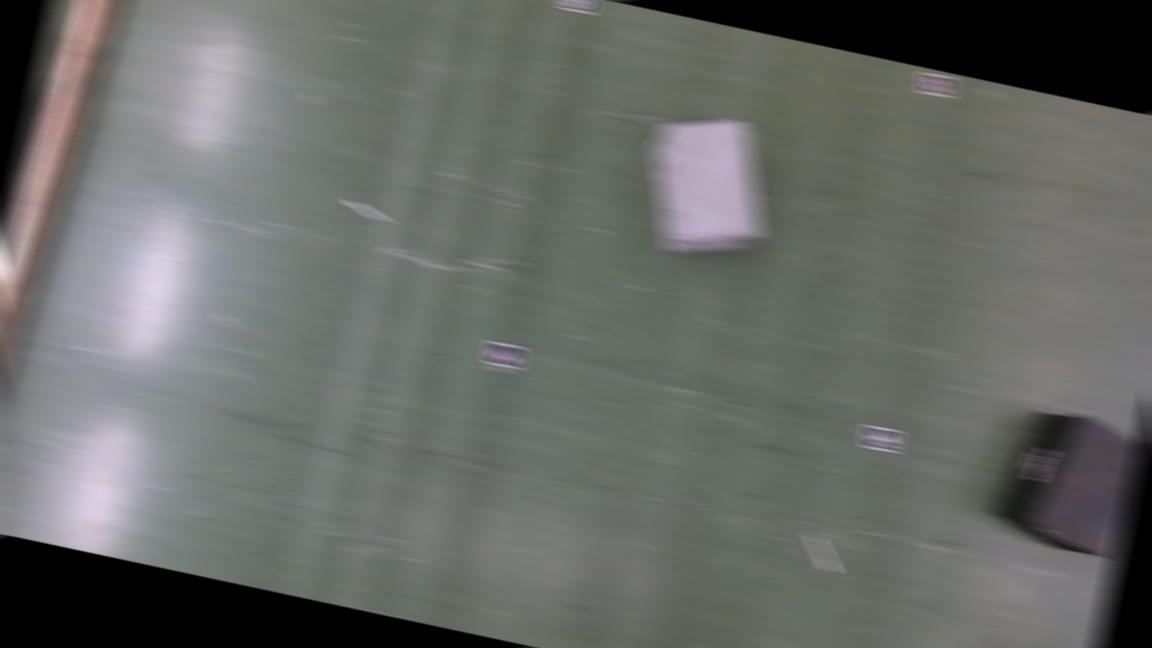probes: (800, 531, 844, 572), (344, 198, 392, 223)
rako: (624, 100, 784, 272), (984, 398, 1147, 561)
